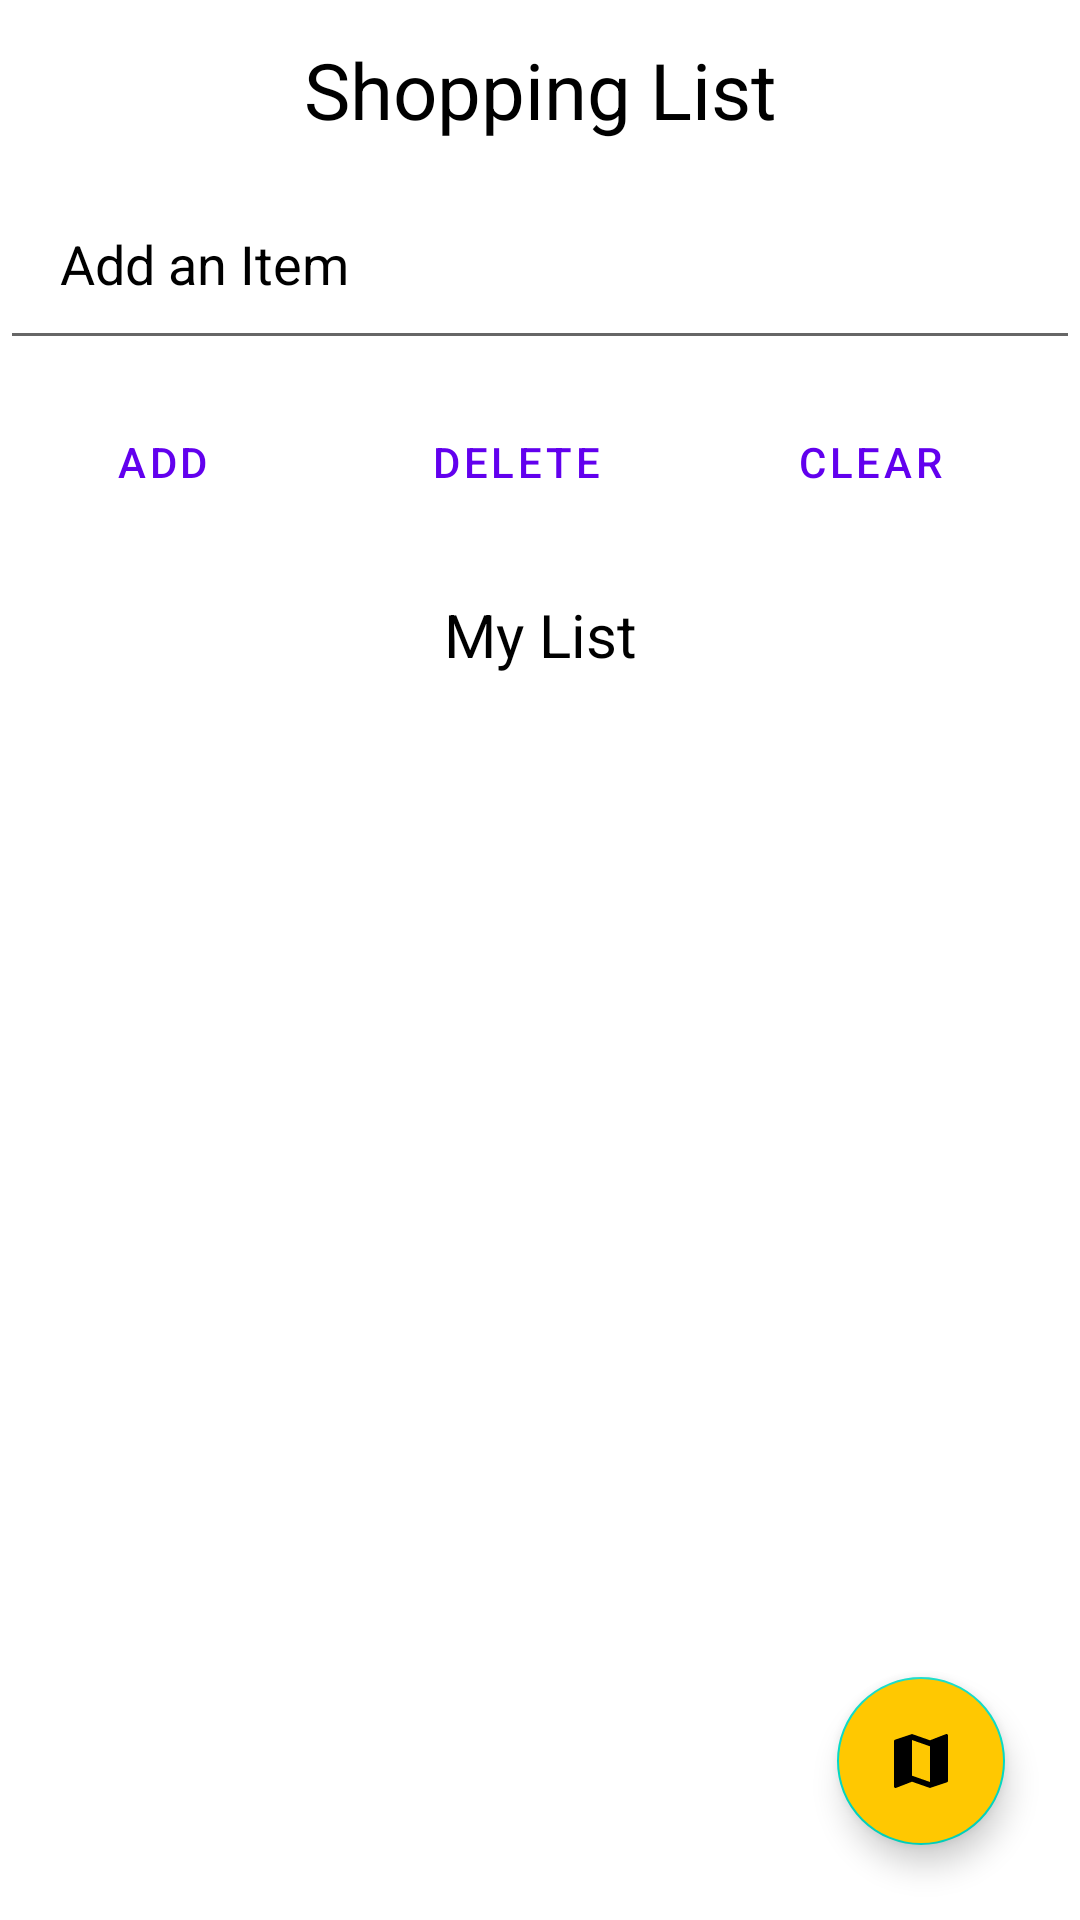

Icon click points for this 1080x1920 phone screenshot, format (x,y):
maps: (921,1761)
